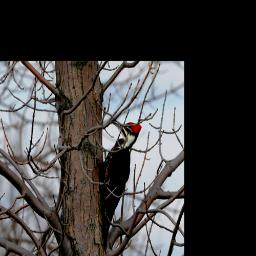Woodpecker: (97, 118, 142, 256)
